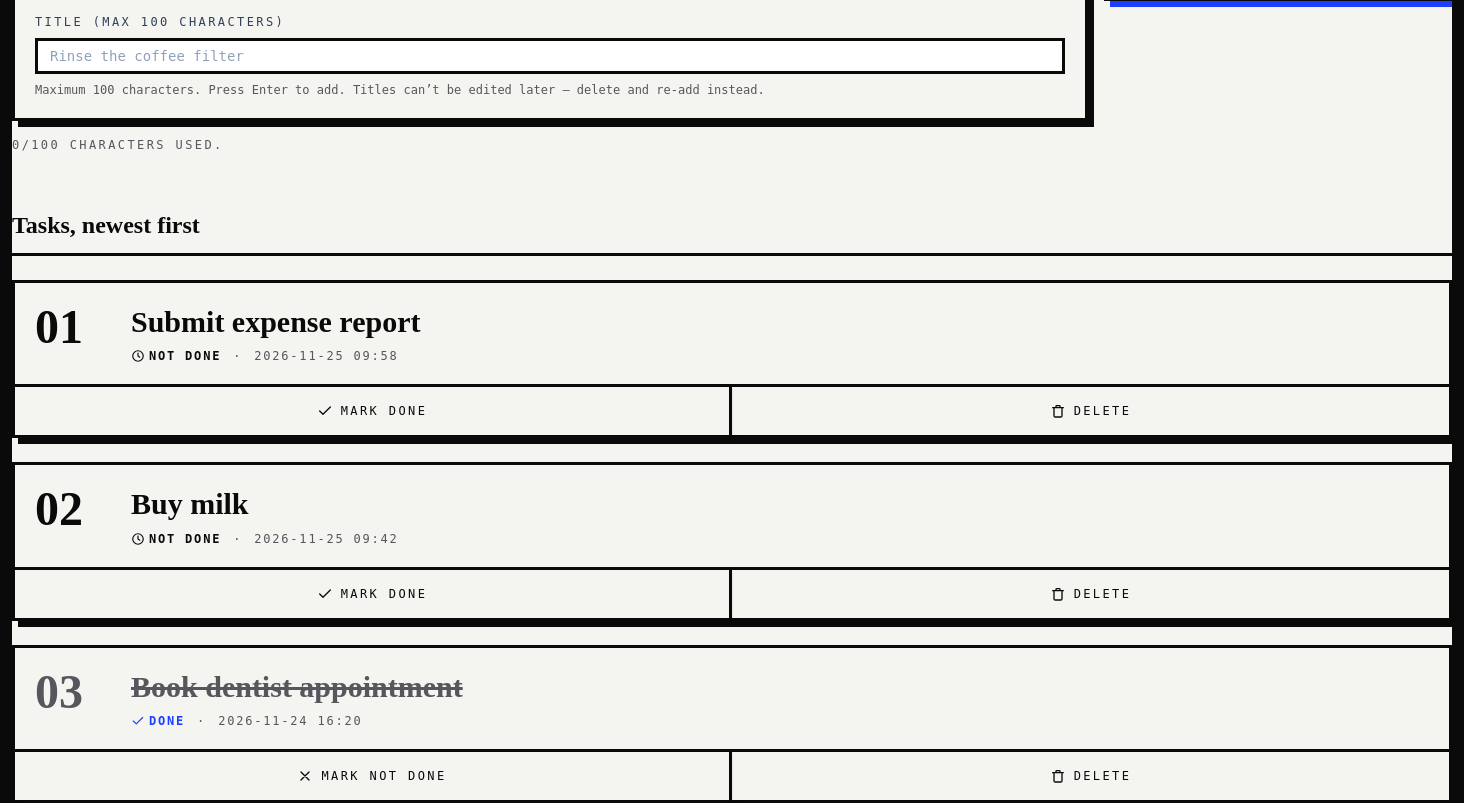
it: Tasks — mark a task as done › [AC-013] replaces the mark-done control with mark-not-done on a done task
(page scrolled)
Click the button with test id "mark-done-btn": coordinates (374, 594) x1=15 y1=570 x2=732 y2=618
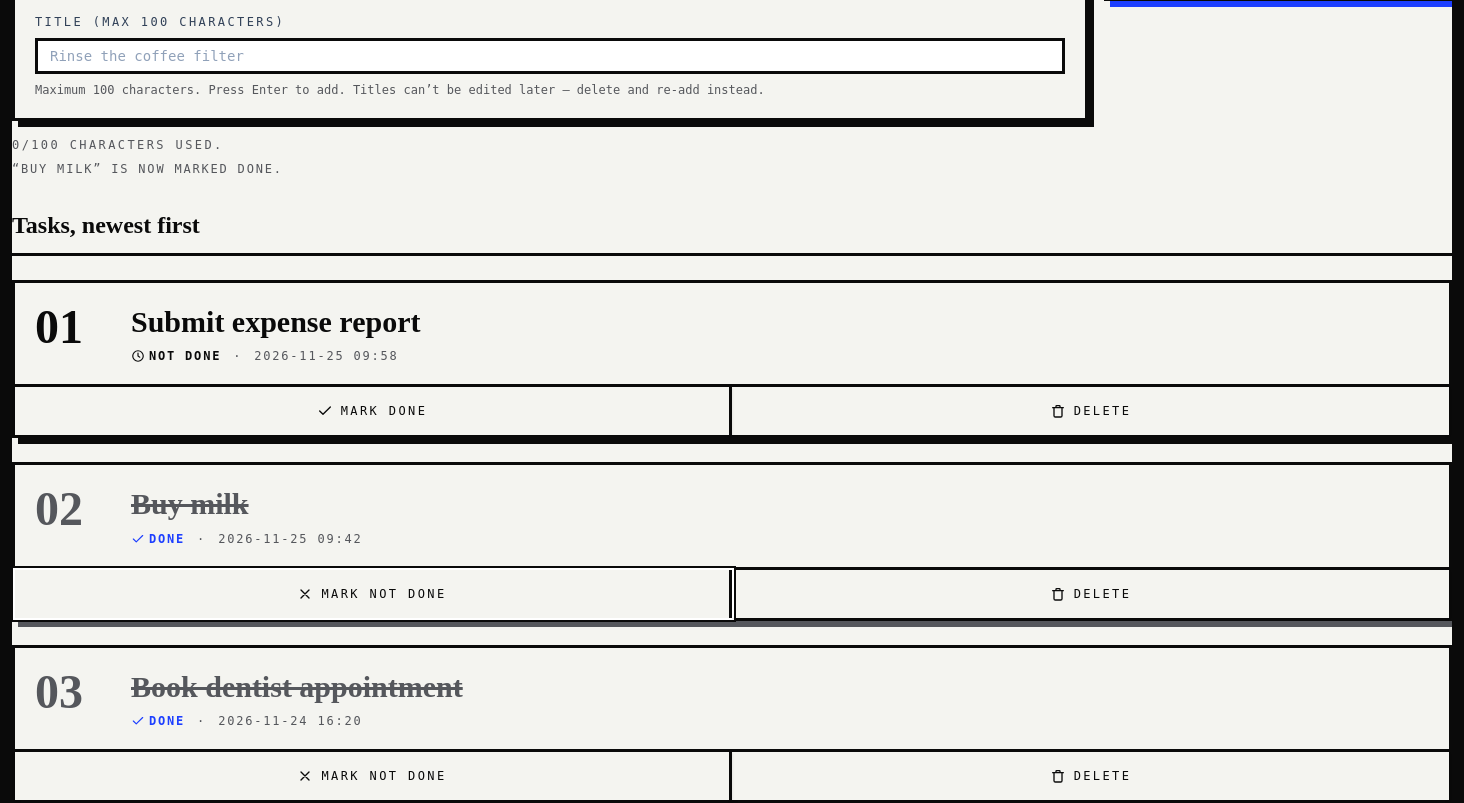
Expected: the button with test id "mark-not-done-btn" is shown, x1=15 y1=570 x2=732 y2=618
